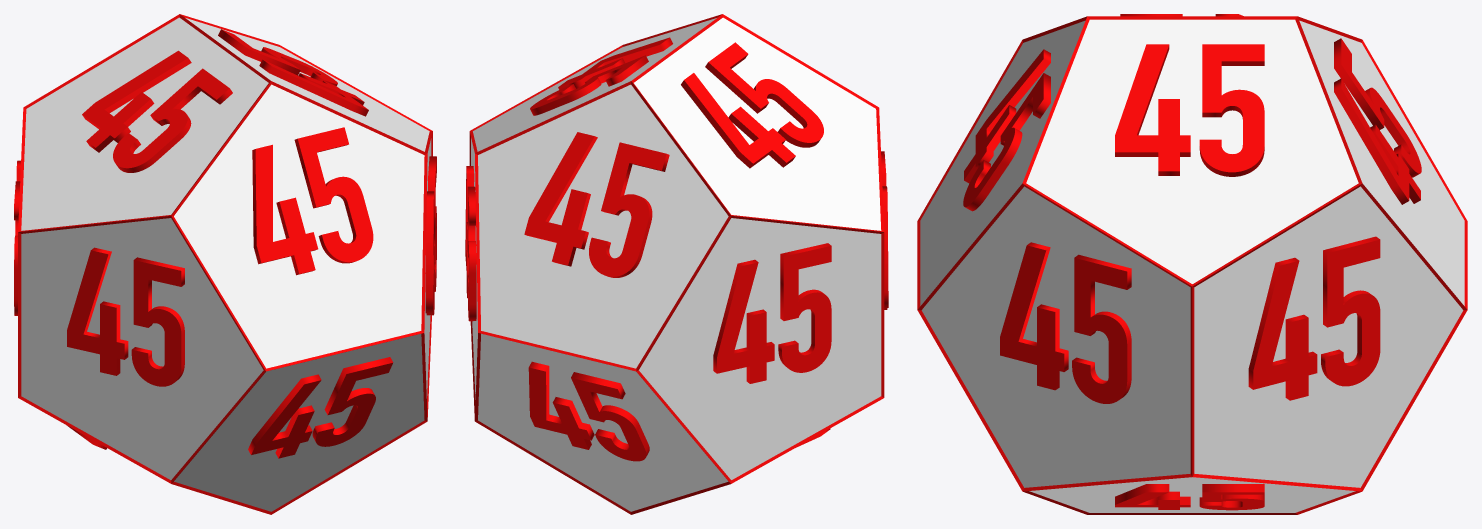
Rendered from dodecahedron_sign-45.glb.
3 views of the same model, side by side, from view 1: azimuth 30°, elevation 25°; view 2: azimuth 150°, elevation 25°; view 3: azimuth 270°, elevation 25° (orthographic). The views are drawn at different scales.
Parts seen in each view (by area): view 1: Dodecahedron_Solid, Dodecahedron_Wire, Text20_5, Text20_11, Text20_7, Text20_10, Text20_2, Text20_6, Text20_8; view 2: Dodecahedron_Solid, Dodecahedron_Wire, Text20_0, Text20_8, Text20_7, Text20_3, Text20_2, Text20_1, Text20_11; view 3: Dodecahedron_Solid, Dodecahedron_Wire, Text20_1, Text20_6, Text20_2, Text20_0, Text20_5, Text20_4.
Part boxes in pixels (box(x1,y1,x2,y2)): Dodecahedron_Solid: box(21, 17, 431, 511); Dodecahedron_Wire: box(18, 14, 432, 514); Text20_5: box(252, 127, 373, 275); Text20_11: box(67, 247, 184, 386); Text20_7: box(82, 50, 232, 172); Text20_10: box(248, 357, 393, 458); Text20_2: box(218, 29, 368, 116); Text20_6: box(425, 156, 436, 315); Text20_8: box(14, 160, 20, 315); Dodecahedron_Solid: box(471, 17, 881, 511); Dodecahedron_Wire: box(469, 14, 884, 514); Text20_0: box(524, 132, 669, 277); Text20_8: box(713, 243, 831, 383); Text20_7: box(681, 42, 823, 168); Text20_3: box(528, 361, 649, 461); Text20_2: box(530, 37, 672, 115); Text20_1: box(465, 166, 476, 321); Text20_11: box(881, 151, 888, 309); Dodecahedron_Solid: box(920, 19, 1464, 512); Dodecahedron_Wire: box(917, 16, 1467, 514); Text20_1: box(1248, 236, 1380, 400); Text20_6: box(1000, 242, 1131, 403); Text20_2: box(1115, 44, 1264, 176); Text20_0: box(1334, 38, 1421, 204); Text20_5: box(963, 49, 1050, 211); Text20_4: box(1115, 484, 1264, 510).
Bounding box in the file's own units: 3.26 × 3.26 × 3.26.
